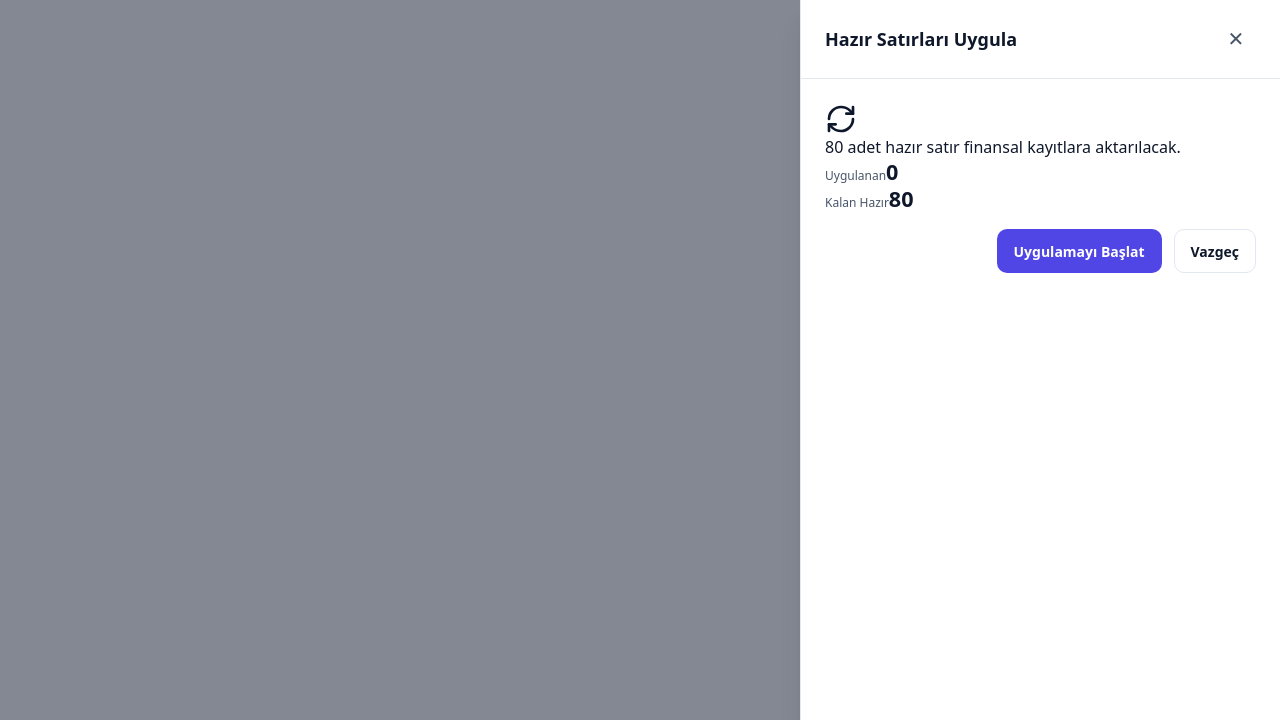
Scenario: F9 — CSV Imports & Resolution Unit & Integration Suite › chunk apply engine loops forward progress and stops on completion
The width and height of the screenshot is (1280, 720).
Click the button with test id "btn-start-apply" at (1079, 251), box left=996, top=229, right=1162, bottom=273
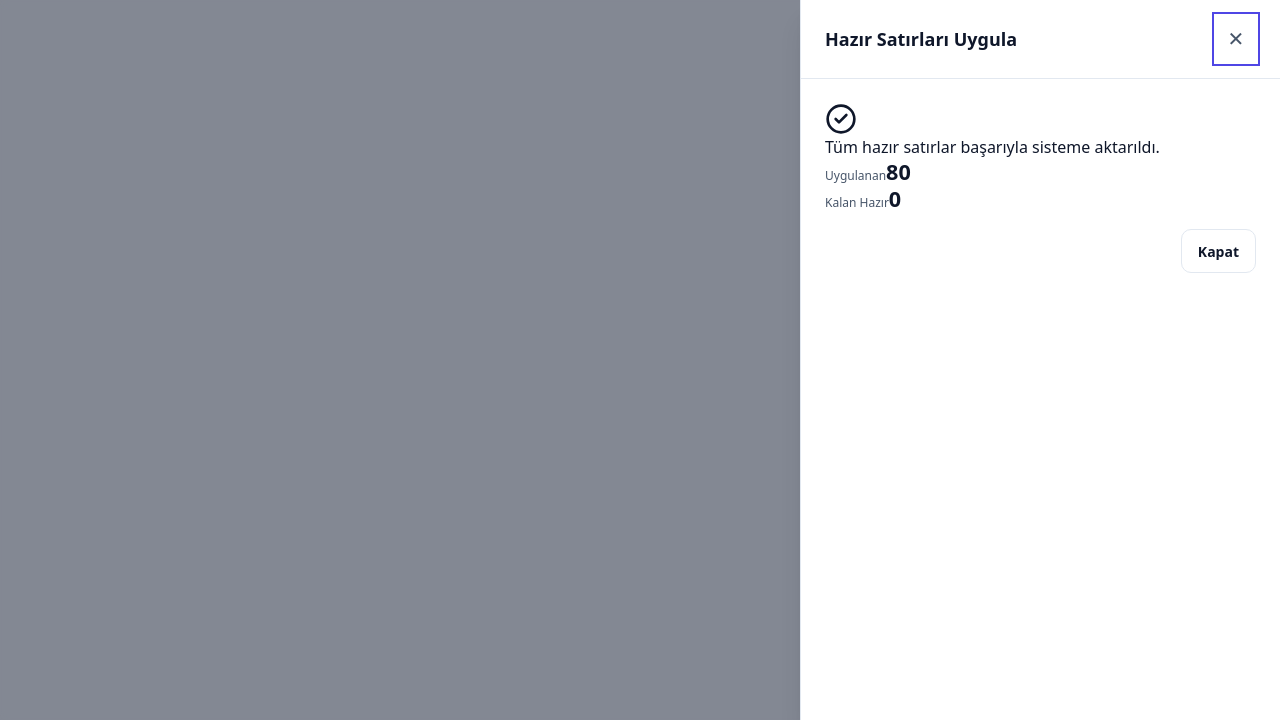
Now the text "Tüm hazır satırlar başarıyla sisteme aktarıldı." is shown, box left=825, top=136, right=1160, bottom=158
